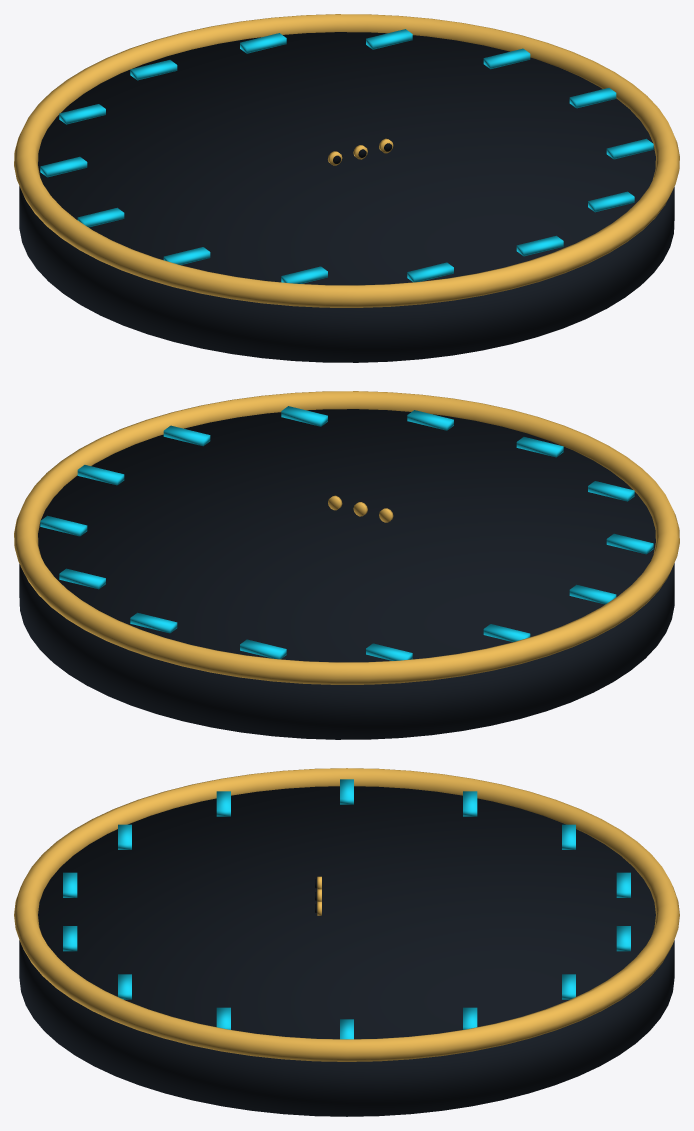
The model's file is 06_L93_CentralArchiveDais.fbx.
3 renders of one model, top to bottom at view 1: azimuth 30°, elevation 25°; view 2: azimuth 150°, elevation 25°; view 3: azimuth 270°, elevation 25°, orthographic.
Visible parts, largest first — view 1: L92_CentralArchiveDais_Part_0000, L92_CentralArchiveDais_Part_0001, L92_CentralArchiveDais_Part_0002; view 2: L92_CentralArchiveDais_Part_0000, L92_CentralArchiveDais_Part_0001, L92_CentralArchiveDais_Part_0002; view 3: L92_CentralArchiveDais_Part_0000, L92_CentralArchiveDais_Part_0001, L92_CentralArchiveDais_Part_0002.
Part boxes in pixels (x1,y1,x2,y2): L92_CentralArchiveDais_Part_0000: (19,32,674,362); L92_CentralArchiveDais_Part_0001: (14,14,679,307); L92_CentralArchiveDais_Part_0002: (40,29,653,283); L92_CentralArchiveDais_Part_0000: (19,409,674,739); L92_CentralArchiveDais_Part_0001: (14,391,679,684); L92_CentralArchiveDais_Part_0002: (40,406,653,660); L92_CentralArchiveDais_Part_0000: (19,786,674,1116); L92_CentralArchiveDais_Part_0001: (14,768,679,1061); L92_CentralArchiveDais_Part_0002: (63,779,630,1039).
Size of the model in its own units: 610 by 89.5 by 610.
